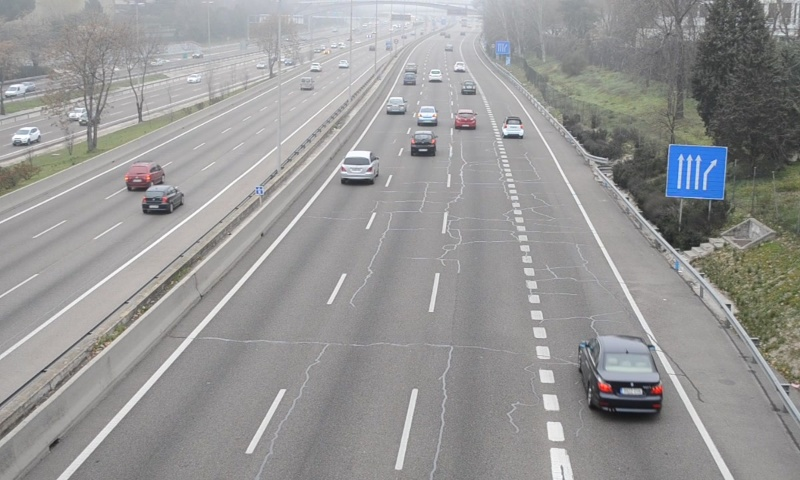car: (579, 335, 663, 415), (339, 149, 379, 180), (409, 130, 437, 157), (502, 115, 524, 140), (454, 108, 477, 131), (416, 104, 438, 126), (386, 96, 406, 115), (460, 80, 476, 96), (402, 72, 418, 86)
